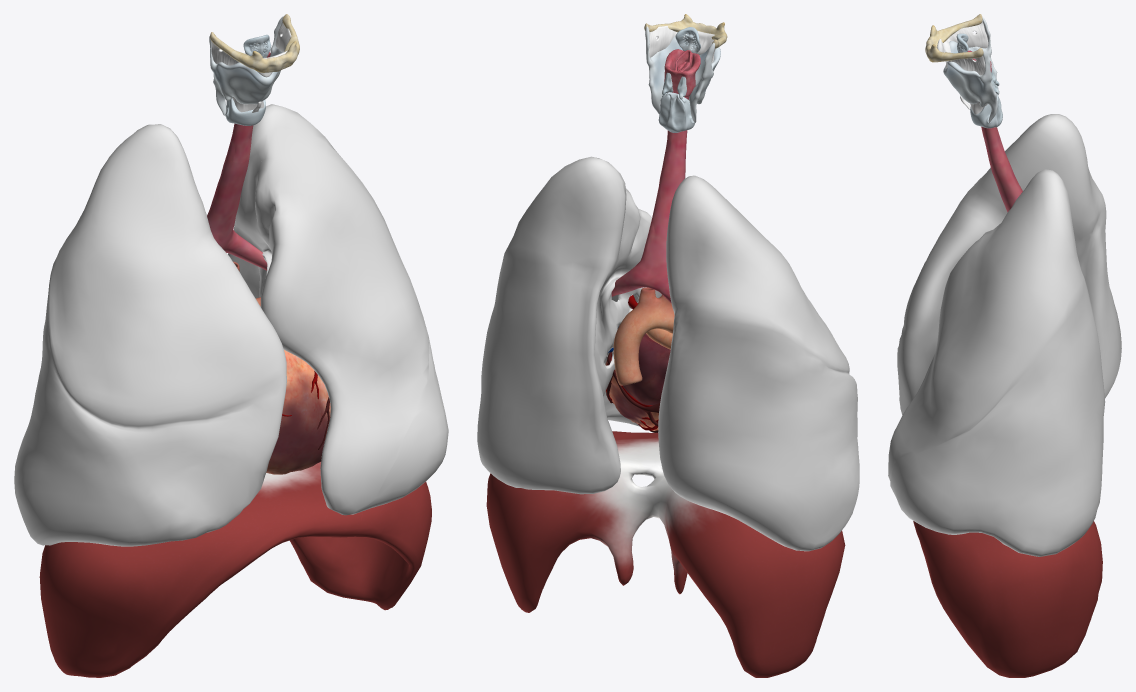
File: TraiTimVaPhoi.fbx
3 renders of one model, left to right at view 1: azimuth 30°, elevation 25°; view 2: azimuth 150°, elevation 25°; view 3: azimuth 270°, elevation 25°, orthographic. The views are drawn at different scales.
Parts seen in each view (by area): view 1: Right_lung, Left_lung2, Diaphragm, Heart_Animated_Master, Trachea, Thyroid_cartilage, Hyoid_bone, Thyrohyoid_membrane, Cricoid; view 2: Right_lung, Left_lung2, Diaphragm, Heart_Animated_Master, Trachea, Thyroid_cartilage, Cricoid, Larynx, Thyrohyoid_membrane, Hyoid_bone; view 3: Left_lung2, Diaphragm, Right_lung, Thyroid_cartilage, Trachea, Hyoid_bone, Thyrohyoid_membrane, Cricoid.
Boxes of the visible parts, <box> form: Right_lung: <box>14,124,286,546</box>; Left_lung2: <box>228,104,448,515</box>; Diaphragm: <box>39,462,431,677</box>; Heart_Animated_Master: <box>233,261,330,474</box>; Trachea: <box>207,123,267,270</box>; Thyroid_cartilage: <box>209,16,284,115</box>; Hyoid_bone: <box>210,14,299,72</box>; Thyrohyoid_membrane: <box>211,19,291,77</box>; Cricoid: <box>225,98,265,125</box>; Right_lung: <box>658,175,859,551</box>; Left_lung2: <box>477,156,661,494</box>; Diaphragm: <box>486,431,845,677</box>; Heart_Animated_Master: <box>605,287,674,432</box>; Trachea: <box>611,96,689,303</box>; Thyroid_cartilage: <box>645,26,720,122</box>; Cricoid: <box>658,92,694,132</box>; Larynx: <box>664,49,700,96</box>; Thyrohyoid_membrane: <box>649,26,715,62</box>; Hyoid_bone: <box>644,14,727,48</box>; Left_lung2: <box>888,169,1105,556</box>; Diaphragm: <box>913,521,1102,677</box>; Right_lung: <box>897,114,1121,414</box>; Thyroid_cartilage: <box>943,17,997,122</box>; Trachea: <box>981,126,1022,212</box>; Hyoid_bone: <box>925,14,983,62</box>; Thyrohyoid_membrane: <box>937,20,988,75</box>; Cricoid: <box>970,85,1002,128</box>.
Size of the model in its own units: 209 by 320 by 116.
